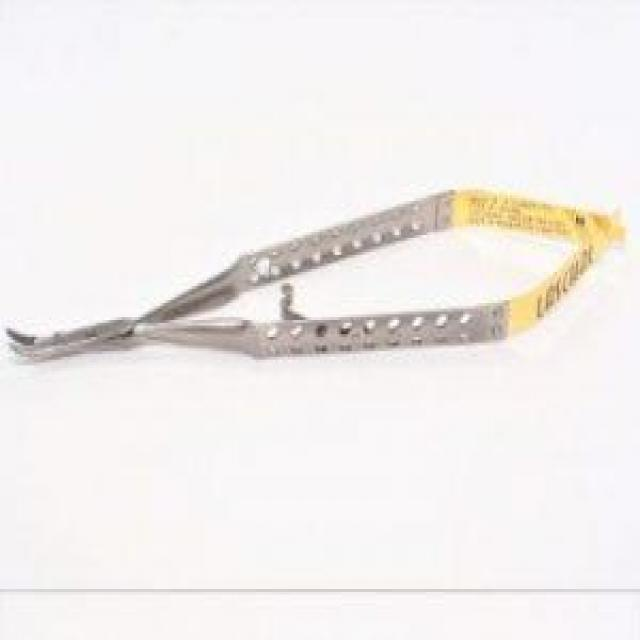Castroviejo: (2, 181, 632, 368)
